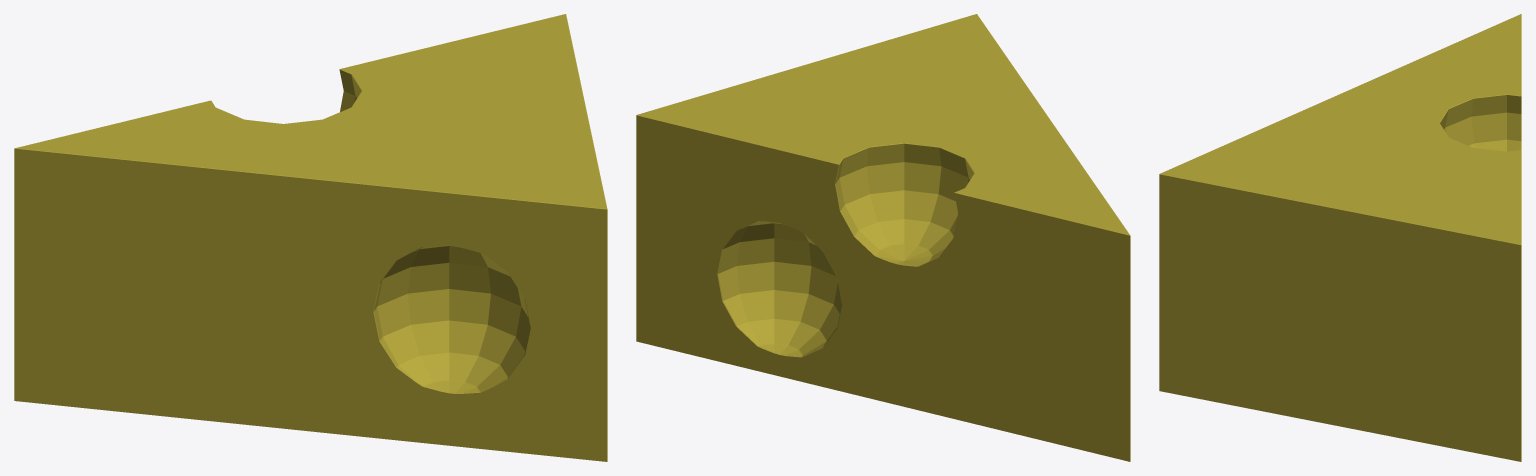
File: Queso.fbx
3 views of the same model, side by side, from view 1: azimuth 30°, elevation 25°; view 2: azimuth 150°, elevation 25°; view 3: azimuth 270°, elevation 25° (orthographic). The views are drawn at different scales.
Parts seen in each view (by area): view 1: Cube; view 2: Cube; view 3: Cube.
Part boxes in pixels (x1=…): Cube: x1=14, y1=14, x2=607, y2=461; Cube: x1=636, y1=14, x2=1130, y2=461; Cube: x1=1159, y1=14, x2=1521, y2=461.
Bounding box in the file's own units: 200 × 87.54 × 132.
